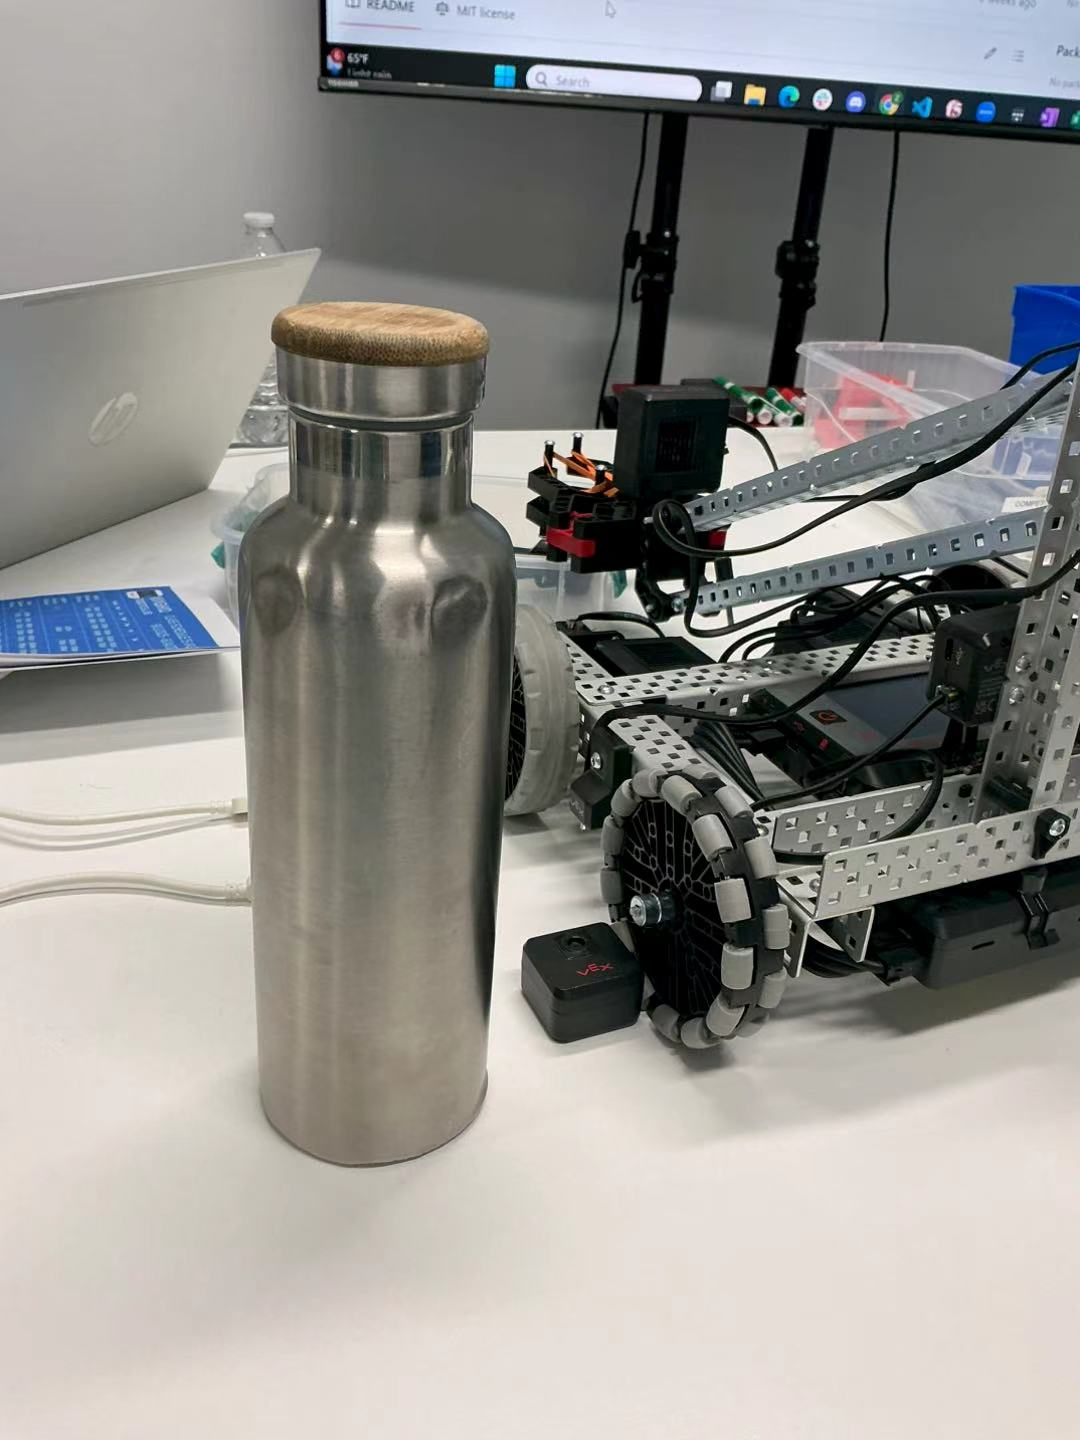Water_Bottle: (214, 284, 514, 1165)
